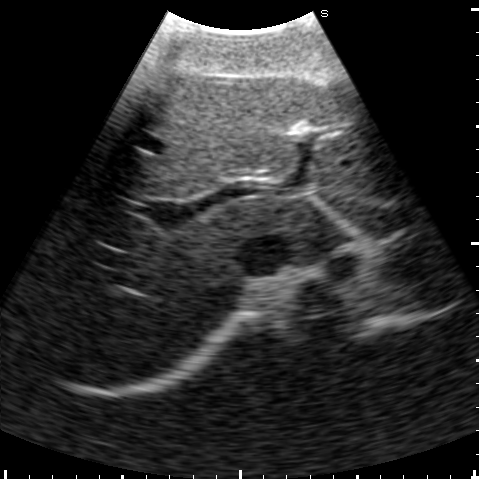IVC: (241, 239, 290, 273)
S1: (262, 200, 338, 255)
S2: (318, 190, 428, 238)
S3: (301, 78, 418, 201)
S4: (117, 72, 322, 198)
Tumor: (290, 119, 311, 136)
